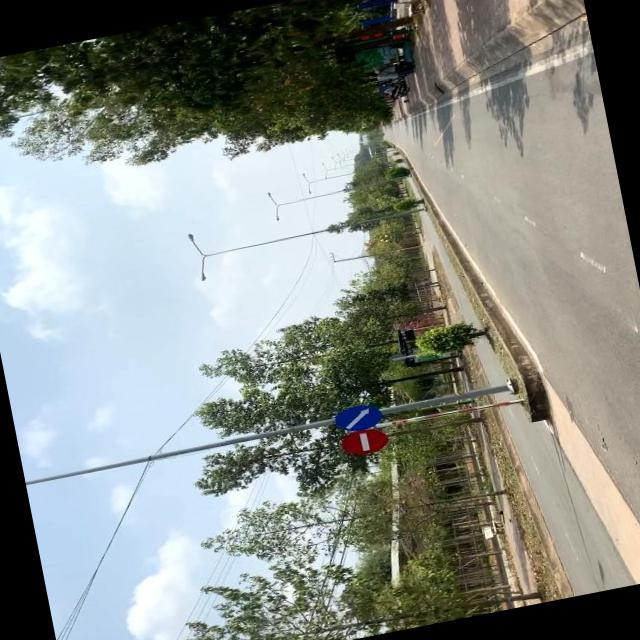P-102: (338, 424, 392, 459)
R-302a: (336, 400, 386, 433)
